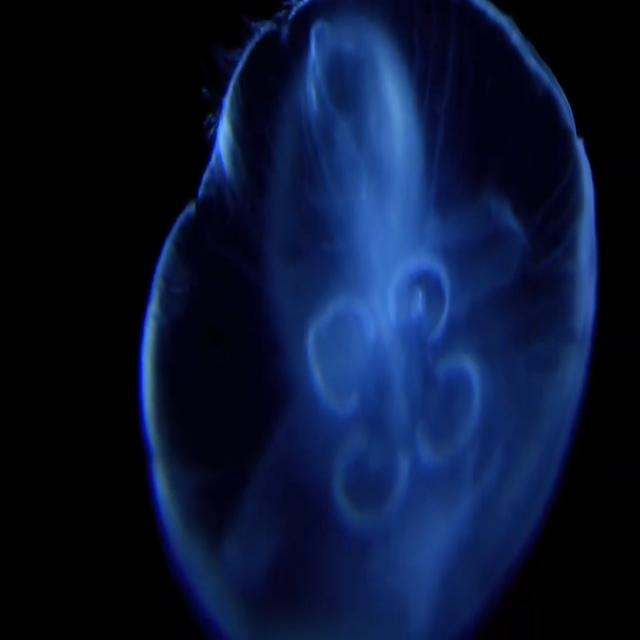Moon-jellyfish: (141, 0, 597, 639)
